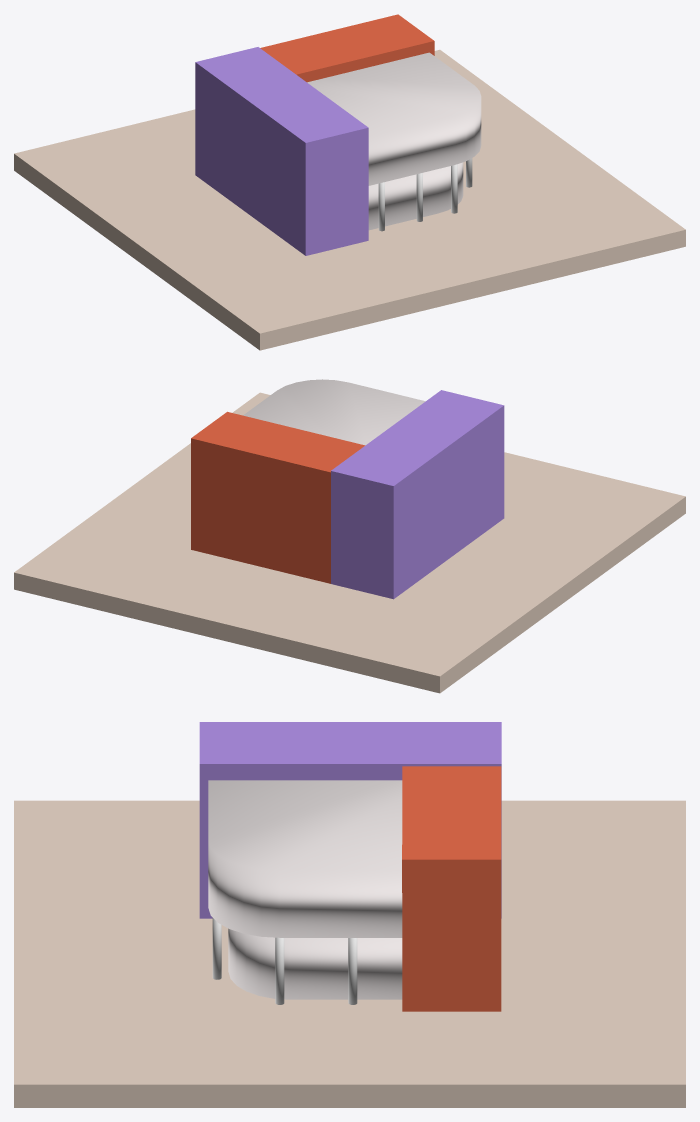
File: building.gltf
3 views of the same model, one above another, from view 1: azimuth 30°, elevation 25°; view 2: azimuth 150°, elevation 25°; view 3: azimuth 270°, elevation 25° (orthographic). The views are drawn at different scales.
Parts seen in each view (by area): view 1: Cube.004, Cube.002, Cube.001, Cube.003, Cube; view 2: Cube.004, Cube.002, Cube.003, Cube.001; view 3: Cube.004, Cube.001, Cube.003, Cube.002, Cube, Cylinder.003, Cylinder.004, Cylinder.002.
Boxes of the visible parts, bbox=[...] form: Cube.004: bbox=[14, 49, 685, 350]; Cube.002: bbox=[195, 47, 368, 255]; Cube.001: bbox=[307, 52, 481, 185]; Cube.003: bbox=[260, 14, 434, 82]; Cube: bbox=[368, 162, 463, 230]; Cube.004: bbox=[14, 392, 685, 693]; Cube.002: bbox=[331, 390, 504, 599]; Cube.003: bbox=[191, 411, 365, 583]; Cube.001: bbox=[243, 379, 425, 445]; Cube.004: bbox=[14, 800, 685, 1107]; Cube.001: bbox=[208, 780, 402, 937]; Cube.003: bbox=[402, 766, 501, 1011]; Cube.002: bbox=[199, 722, 501, 918]; Cube: bbox=[228, 928, 402, 999]; Cylinder.003: bbox=[275, 937, 284, 1004]; Cylinder.004: bbox=[348, 938, 357, 1004]; Cylinder.002: bbox=[212, 918, 221, 979].
Bounding box in the file's own units: 1.28 × 0.375 × 1.28.
